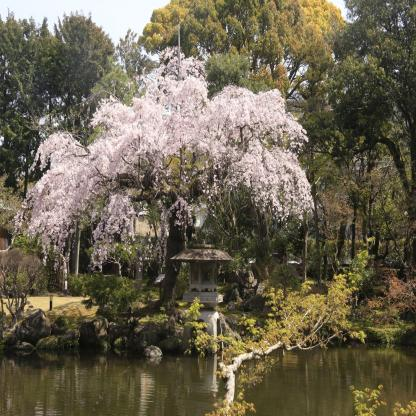ShidareZakura: (12, 47, 315, 279)
